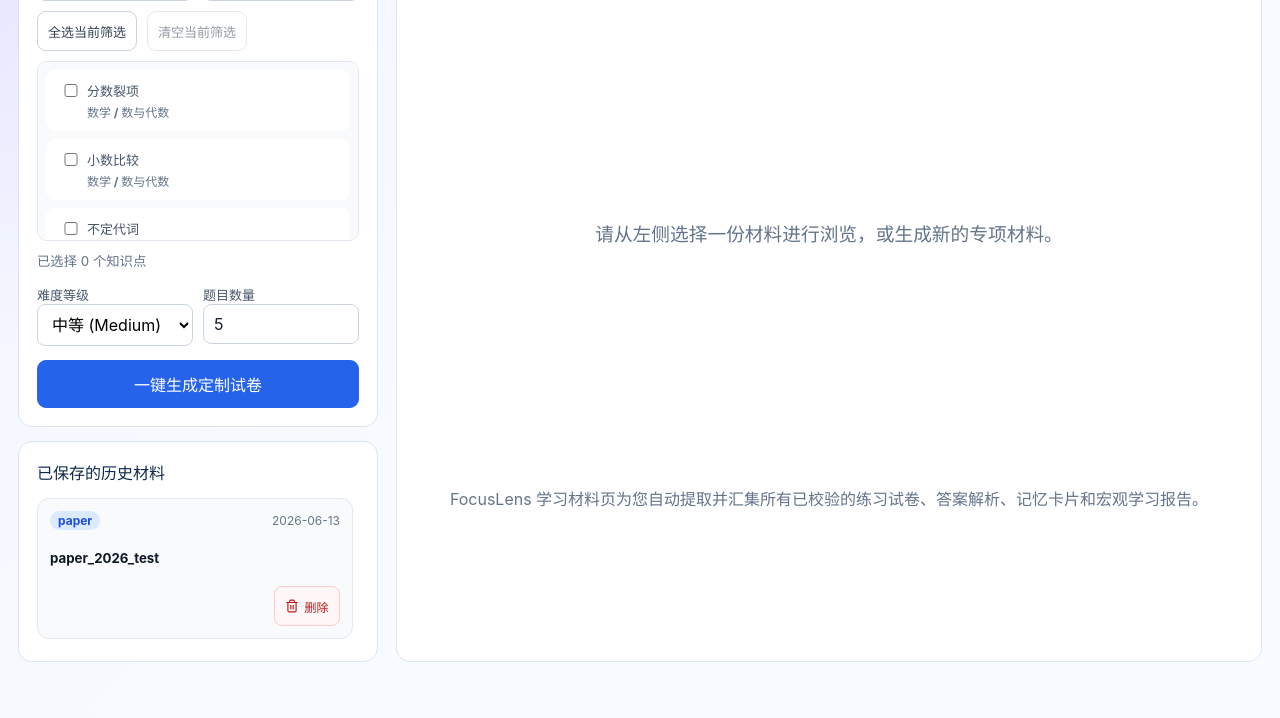
Test case: can display paper details and toggle answer
(page scrolled)
// Wait for the artifacts to load and click on the paper card
Click the heading "paper_2026_test". click: click(105, 558)
box: 50,550 -> 159,566
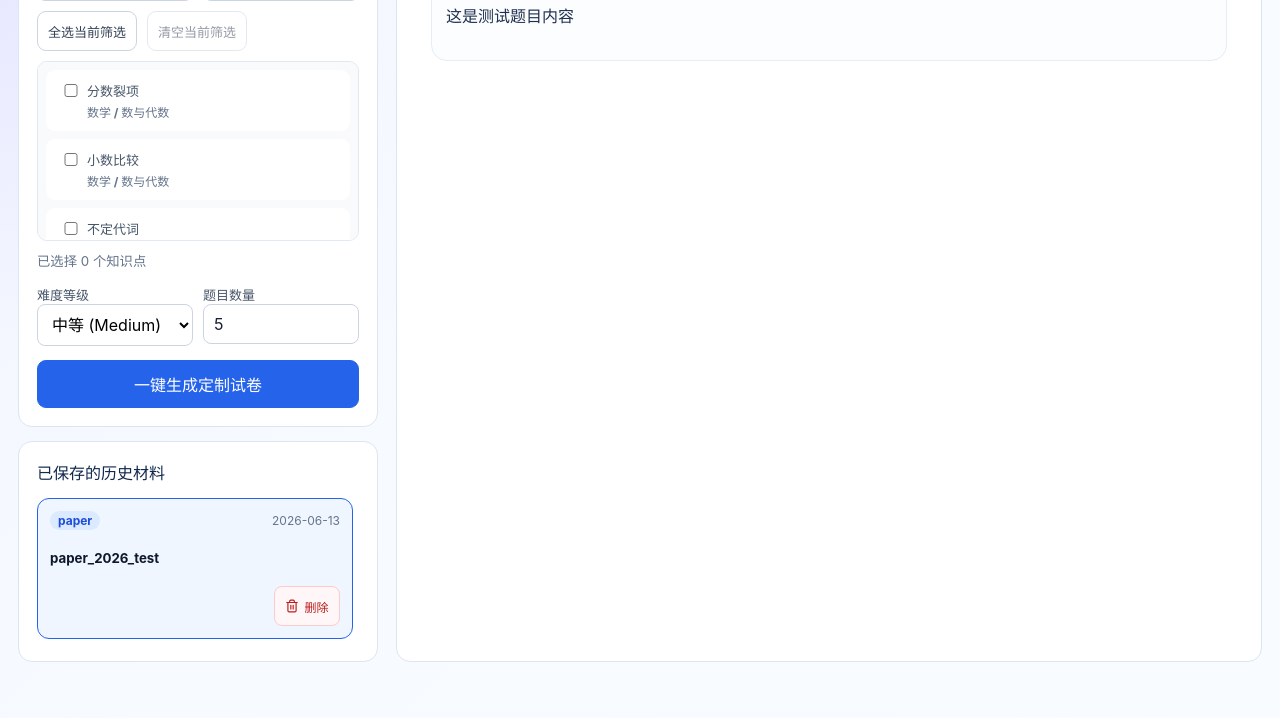
Now the text "这是测试题目内容" is shown, box 446,6 -> 574,26
